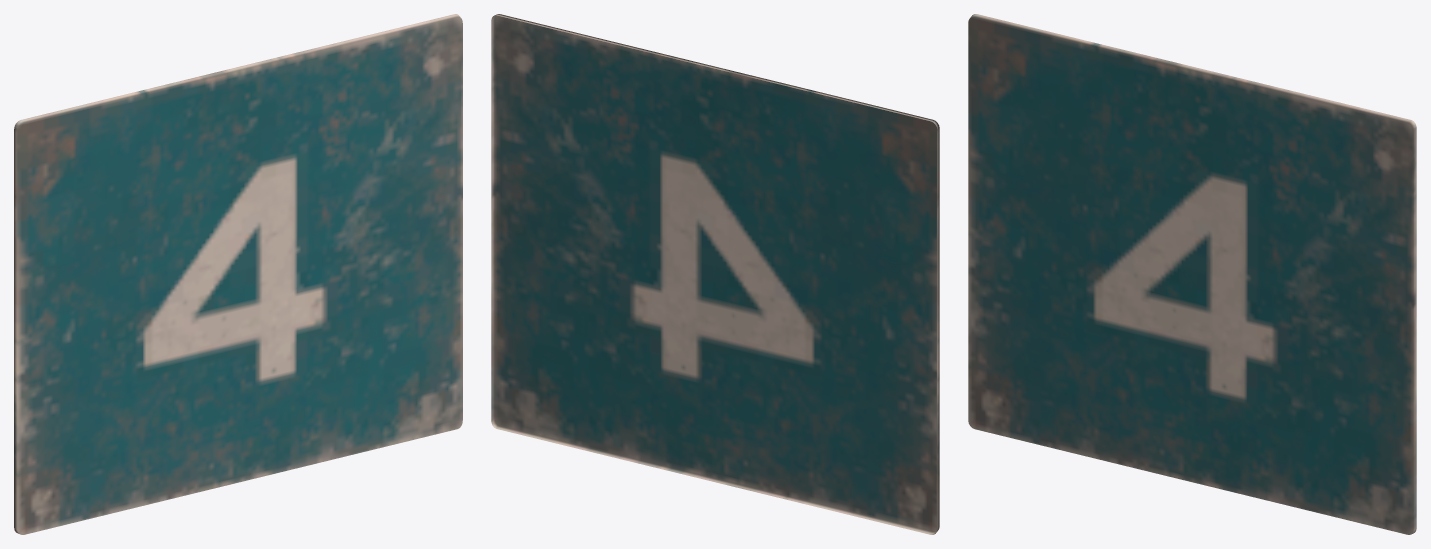
Rendered from SM_Sign_02l.glb.
3 views of the same model, side by side, from view 1: azimuth 30°, elevation 25°; view 2: azimuth 150°, elevation 25°; view 3: azimuth 330°, elevation 25° (orthographic).
Visible parts, largest first — view 1: SM_Sign_02l; view 2: SM_Sign_02l; view 3: SM_Sign_02l.
Boxes of the visible parts, x1=… form: SM_Sign_02l: x1=14, y1=14, x2=462, y2=534; SM_Sign_02l: x1=491, y1=14, x2=939, y2=534; SM_Sign_02l: x1=968, y1=14, x2=1416, y2=534.
Bounding box in the file's own units: 0.1682 × 0.149 × 0.00195.
1 material, 1 textured.
